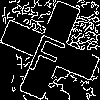F: (25, 25, 71, 79)
